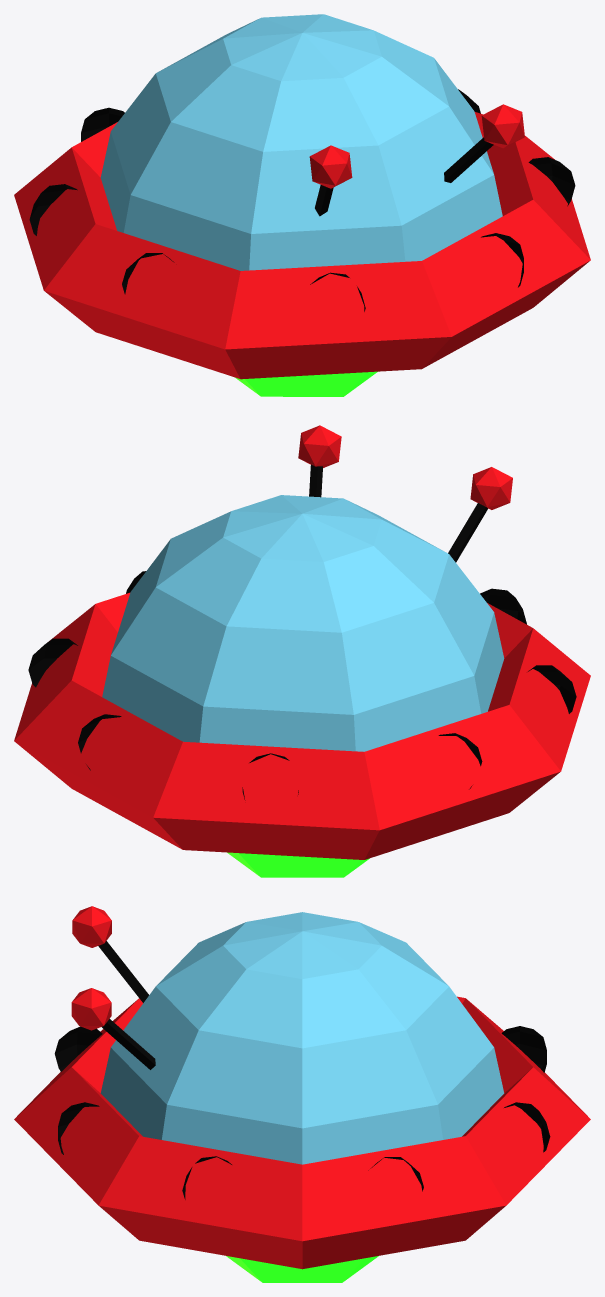
Rendered from ufo2glb.glb.
The picture shows the model from 3 angles, top to bottom: view 1: azimuth 30°, elevation 25°; view 2: azimuth 150°, elevation 25°; view 3: azimuth 270°, elevation 25°; orthographic projection. The views are drawn at different scales.
Visible parts, largest first — view 1: Sphere; view 2: Sphere; view 3: Sphere.
Part boxes in pixels (x1,y1,x2,y2): Sphere: (14, 14, 590, 396); Sphere: (14, 425, 590, 877); Sphere: (14, 906, 590, 1282).
Size of the model in its own units: 1.57 by 1.03 by 1.57.
